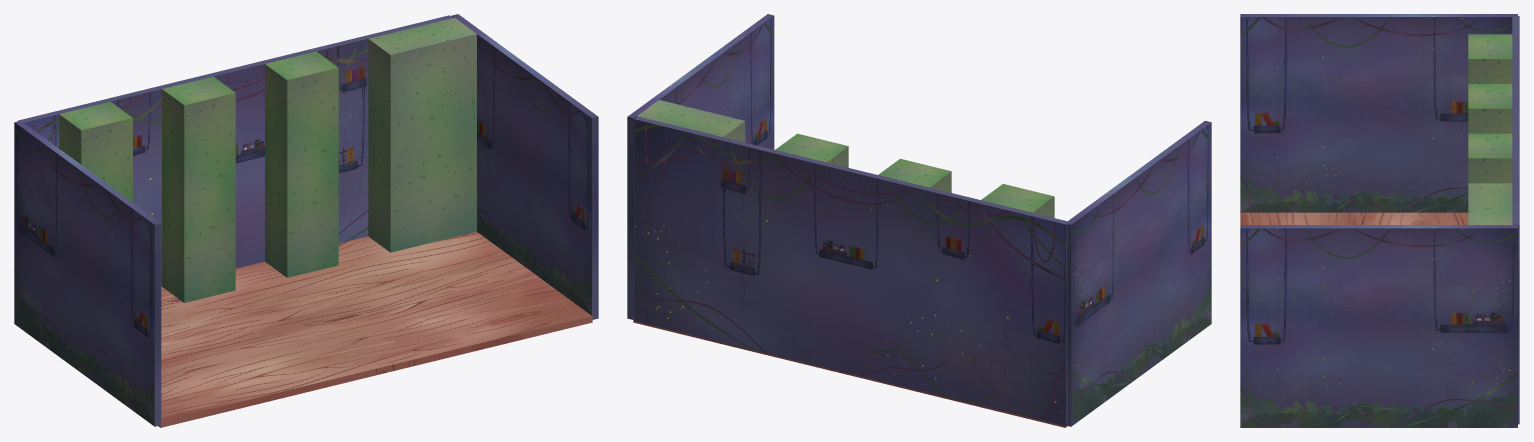
File: scenes2.fbx
3 views of the same model, side by side, from view 1: azimuth 30°, elevation 25°; view 2: azimuth 150°, elevation 25°; view 3: azimuth 270°, elevation 25° (orthographic).
Parts seen in each view (by area): view 1: floor, wall2, wall3, grasswall2, wall1, grasswall4, grasswall3, grasswall1; view 2: wall1, wall2, wall3, grasswall2, grasswall1, grasswall3, grasswall4, floor; view 3: wall3, wall2, floor, grasswall4, grasswall1, grasswall3, wall1, grasswall2.
Part boxes in pixels (bbox=[...]): floor: bbox=[158, 231, 592, 427]; wall2: bbox=[14, 121, 161, 426]; wall3: bbox=[451, 14, 598, 319]; grasswall2: bbox=[368, 17, 476, 252]; wall1: bbox=[18, 15, 452, 286]; grasswall4: bbox=[265, 51, 338, 277]; grasswall3: bbox=[162, 76, 235, 302]; grasswall1: bbox=[59, 101, 132, 202]; wall1: bbox=[634, 116, 1069, 426]; wall2: bbox=[1067, 120, 1211, 426]; wall3: bbox=[627, 14, 774, 319]; grasswall2: bbox=[636, 100, 745, 142]; grasswall1: bbox=[981, 184, 1054, 217]; grasswall3: bbox=[878, 158, 951, 192]; grasswall4: bbox=[775, 133, 848, 167]; floor: bbox=[633, 316, 1067, 427]; wall3: bbox=[1240, 225, 1517, 427]; wall2: bbox=[1240, 14, 1517, 212]; floor: bbox=[1240, 212, 1468, 224]; grasswall4: bbox=[1468, 133, 1512, 183]; grasswall1: bbox=[1468, 34, 1512, 83]; grasswall3: bbox=[1468, 84, 1512, 133]; wall1: bbox=[1512, 16, 1519, 424]; grasswall2: bbox=[1468, 183, 1512, 225].
Bounding box in the file's own units: 69 × 30.38 × 38.03.
Materials: 5 (5 with a texture image).
